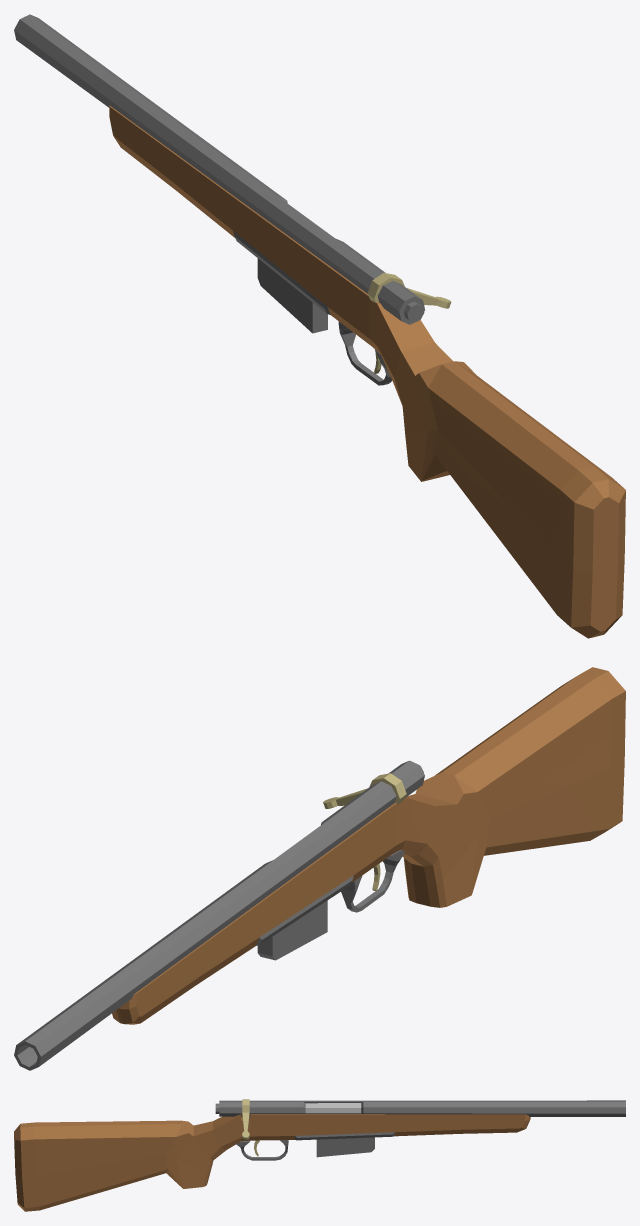
File: BoltAction-Rifles-B-Medium.fbx
3 renders of one model, top to bottom at view 1: azimuth 30°, elevation 25°; view 2: azimuth 150°, elevation 25°; view 3: azimuth 270°, elevation 25°, orthographic. The views are drawn at different scales.
Parts seen in each view (by area): view 1: SniperRifle_B.001; view 2: SniperRifle_B.001; view 3: SniperRifle_B.001.
Boxes of the visible parts, <box> form: SniperRifle_B.001: <box>14,14,625,638</box>; SniperRifle_B.001: <box>14,667,625,1070</box>; SniperRifle_B.001: <box>14,1099,625,1211</box>.
Size of the model in its own units: 112 by 251 by 1263.
